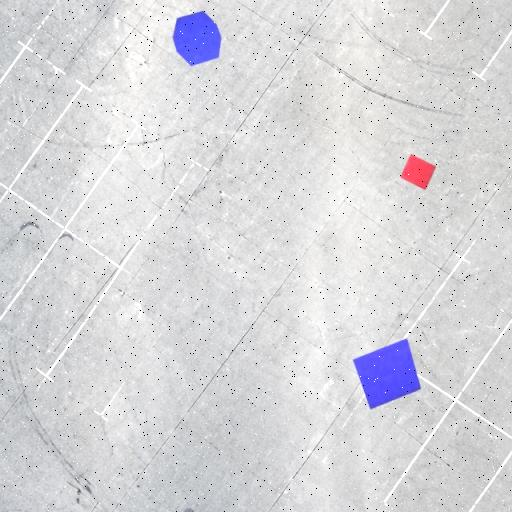BLUE_SQUARE: (352, 338, 422, 410)
RED_SQUARE: (400, 154, 437, 191)
